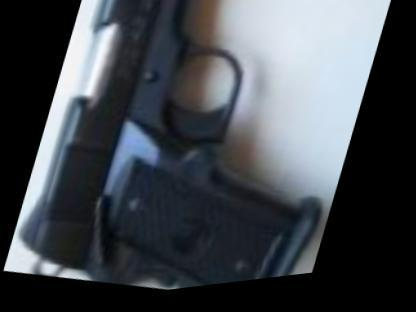pistol: (10, 0, 379, 309)
